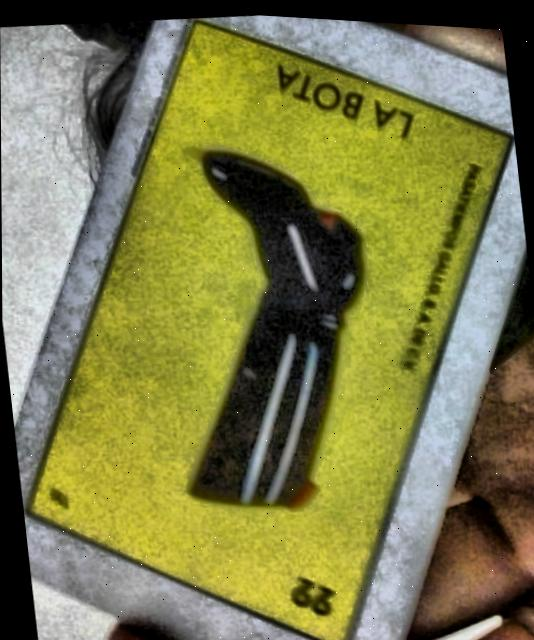La Bota: (24, 24, 509, 640)
